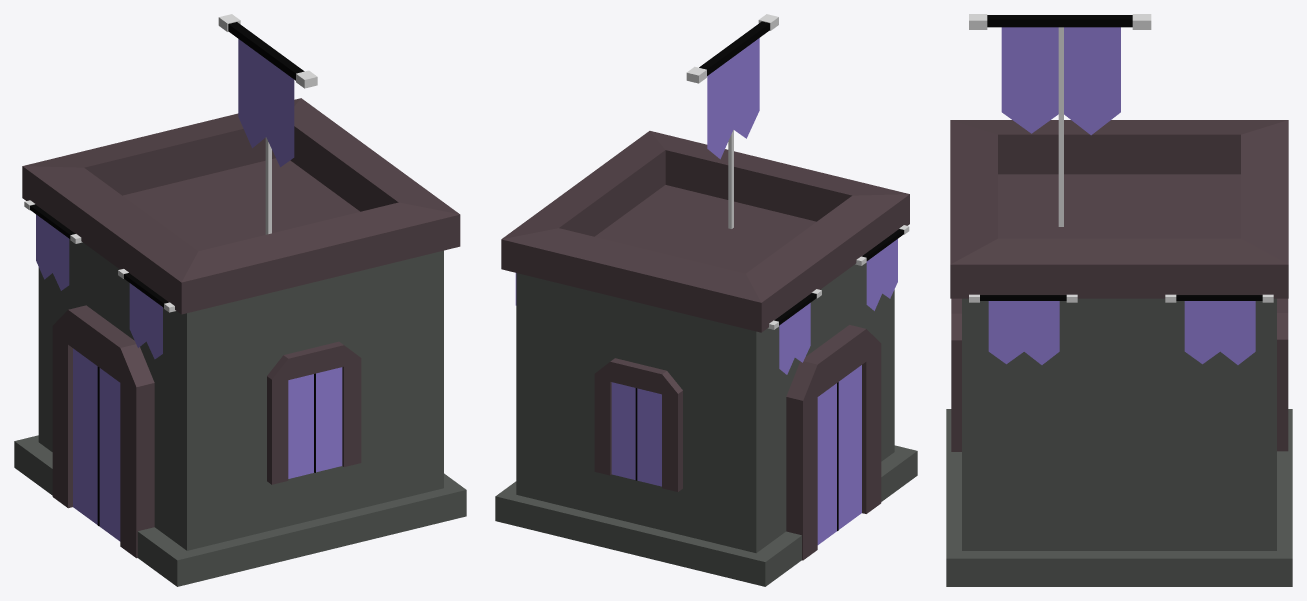
Rendered from house1.fbx.
3 renders of one model, left to right at view 1: azimuth 30°, elevation 25°; view 2: azimuth 150°, elevation 25°; view 3: azimuth 270°, elevation 25°, orthographic. The views are drawn at different scales.
Visible parts, largest first — view 1: Cube, Cube.011, Cube.002, Cube.001, Cube.006, Plane.004, Plane.001, Plane, Cube.021, Cube.024; view 2: Cube, Cube.011, Cube.002, Cube.001, Cube.005, Plane.004, Plane.001, Plane, Cube.021, Cube.024; view 3: Cube, Cube.011, Cube.001, Plane.004, Plane.002, Plane.003, Cube.021, Cube.005, Cube.006, Cube.024, Cube.015, Cube.018.
Boxes of the visible parts, x1=… form: Cube: x1=38, y1=239, x2=443, y2=550; Cube.011: x1=22, y1=98, x2=460, y2=314; Cube.002: x1=52, y1=305, x2=154, y2=558; Cube.001: x1=14, y1=435, x2=466, y2=586; Cube.006: x1=267, y1=341, x2=361, y2=484; Plane.004: x1=238, y1=39, x2=294, y2=167; Plane.001: x1=129, y1=283, x2=162, y2=359; Plane: x1=36, y1=214, x2=69, y2=290; Cube.021: x1=228, y1=22, x2=304, y2=80; Cube.024: x1=265, y1=137, x2=271, y2=234; Cube: x1=516, y1=262, x2=894, y2=553; Cube.011: x1=501, y1=131, x2=909, y2=332; Cube.002: x1=786, y1=325, x2=881, y2=560; Cube.001: x1=495, y1=445, x2=917, y2=586; Cube.005: x1=594, y1=358, x2=682, y2=491; Plane.004: x1=707, y1=38, x2=759, y2=159; Plane.001: x1=866, y1=239, x2=897, y2=310; Plane: x1=779, y1=303, x2=810, y2=374; Cube.021: x1=699, y1=21, x2=769, y2=75; Cube.024: x1=728, y1=130, x2=733, y2=228; Cube: x1=962, y1=298, x2=1276, y2=550; Cube.011: x1=950, y1=120, x2=1288, y2=298; Cube.001: x1=946, y1=409, x2=1292, y2=586; Plane.004: x1=1001, y1=27, x2=1120, y2=135; Plane.002: x1=988, y1=301, x2=1059, y2=364; Plane.003: x1=1184, y1=301, x2=1255, y2=364; Cube.021: x1=987, y1=15, x2=1132, y2=27; Cube.005: x1=1277, y1=298, x2=1288, y2=451; Cube.006: x1=951, y1=298, x2=961, y2=451; Cube.024: x1=1058, y1=27, x2=1063, y2=226; Cube.015: x1=980, y1=295, x2=1066, y2=300; Cube.018: x1=1176, y1=295, x2=1262, y2=300.
Size of the model in its own units: 566 by 866 by 549.
